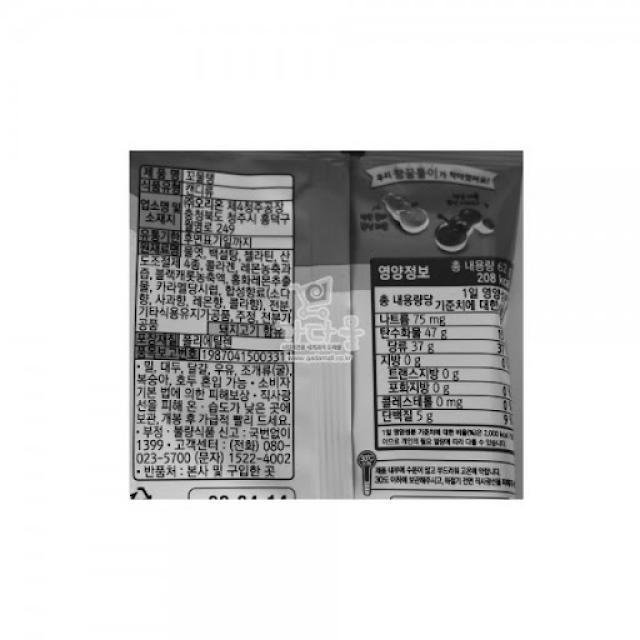Nutrition Label: (363, 242, 525, 462)
